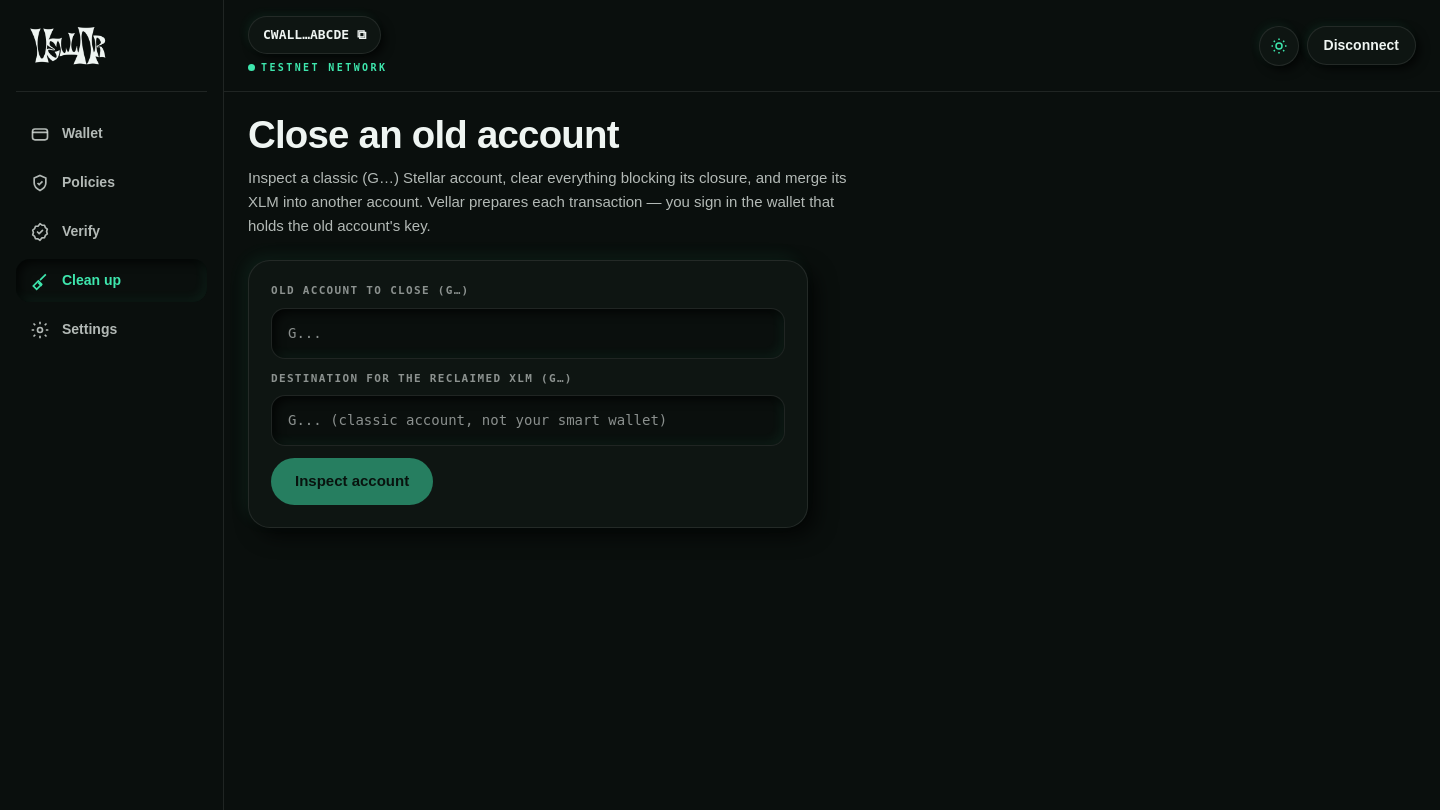
Test: Cleanup wizard › shows the plan's blockers with required actions
The image size is (1440, 810).
Type "GCMCEGOUVALP2H6LTY7IPUUMSFKDQUMK3SDU5DI7LETNEZZKHRIIALKM" into the field labelled "Old account to close (G…)" at [528, 333], box [271,308,785,359]
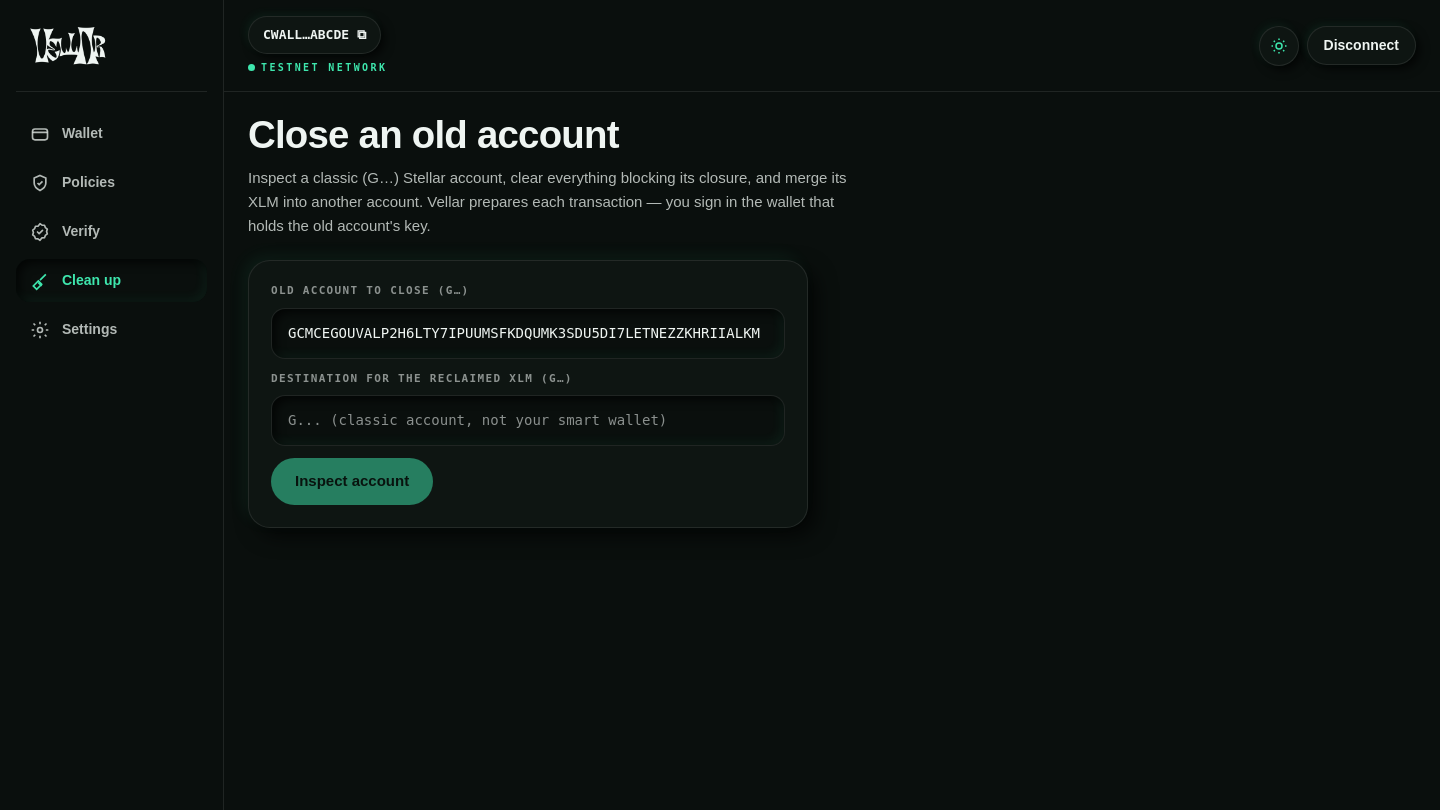
Type "GDQNY3PBOJOKYZSRMK2S7LHHGWZIUISD4QORETLMXEWXBI7KFZZMKTL3" into the field labelled "Destination for the reclaimed XLM (G…)" at [528, 421], box [271,395,785,446]
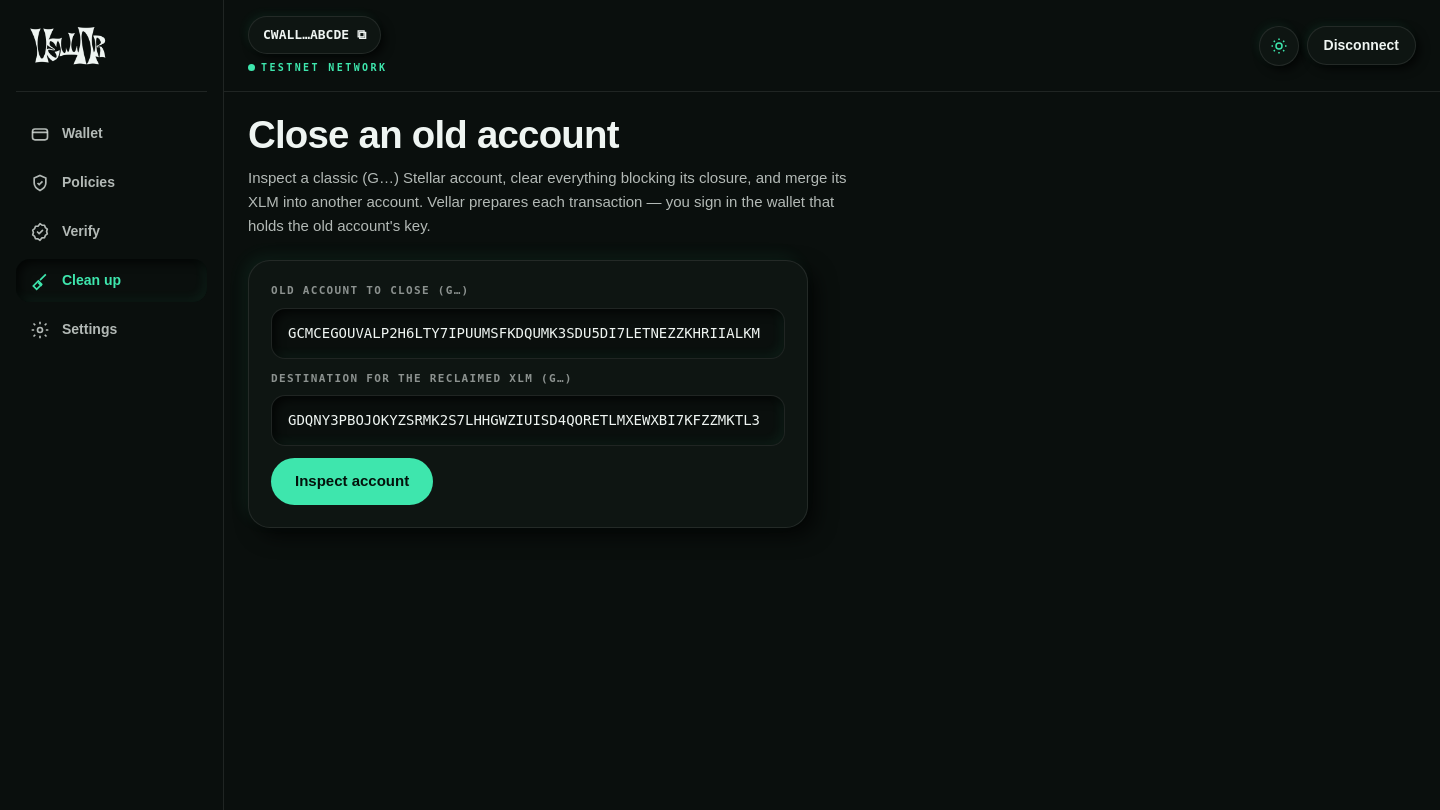
Click the button "Inspect account" at [352, 482], box [271,458,433,505]
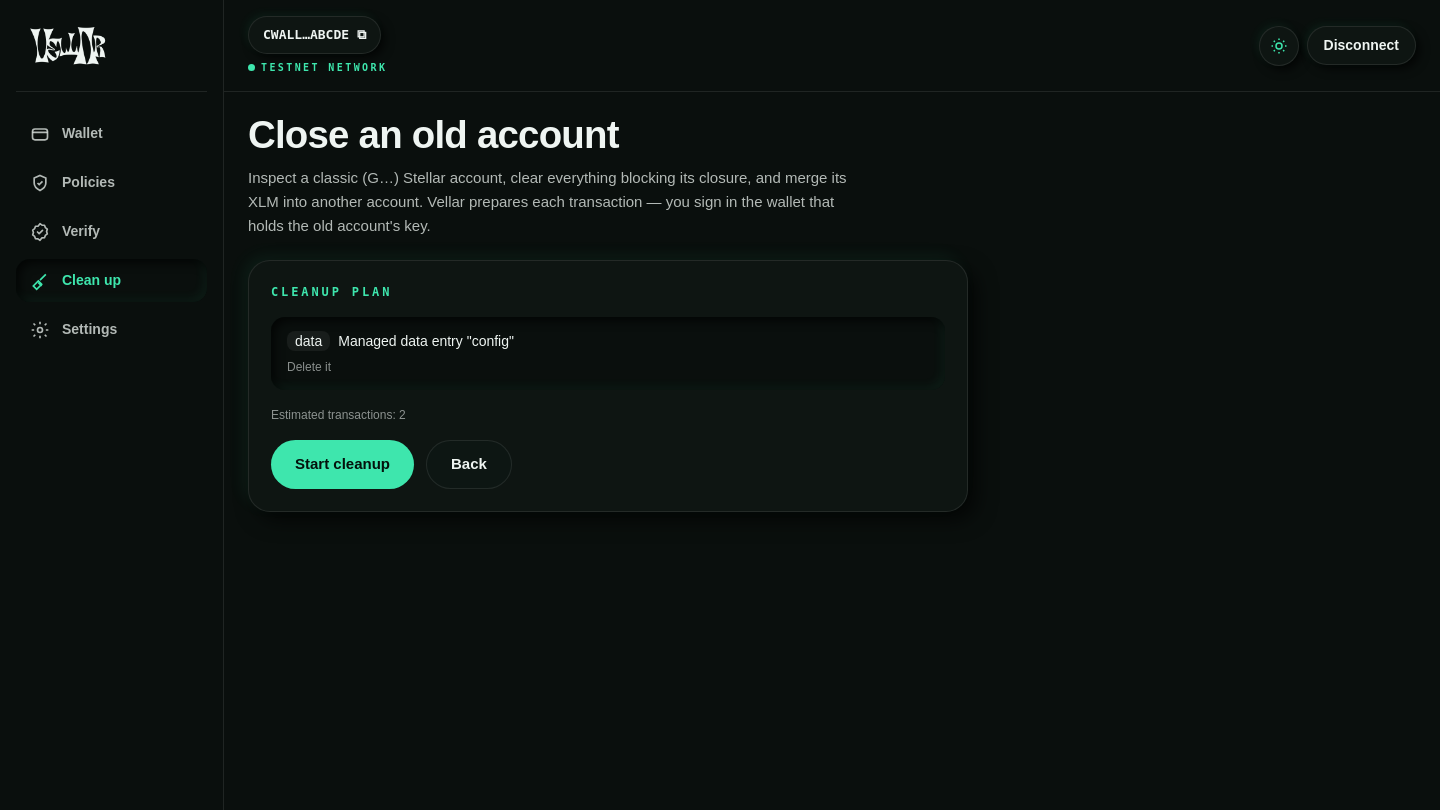
Result: the text "Cleanup plan" is shown at [271,285,392,299]
Result: the list item "Managed data entry" is shown at [338,333,514,349]
Result: the text "Estimated transactions: 2" is shown at [271,408,406,422]
